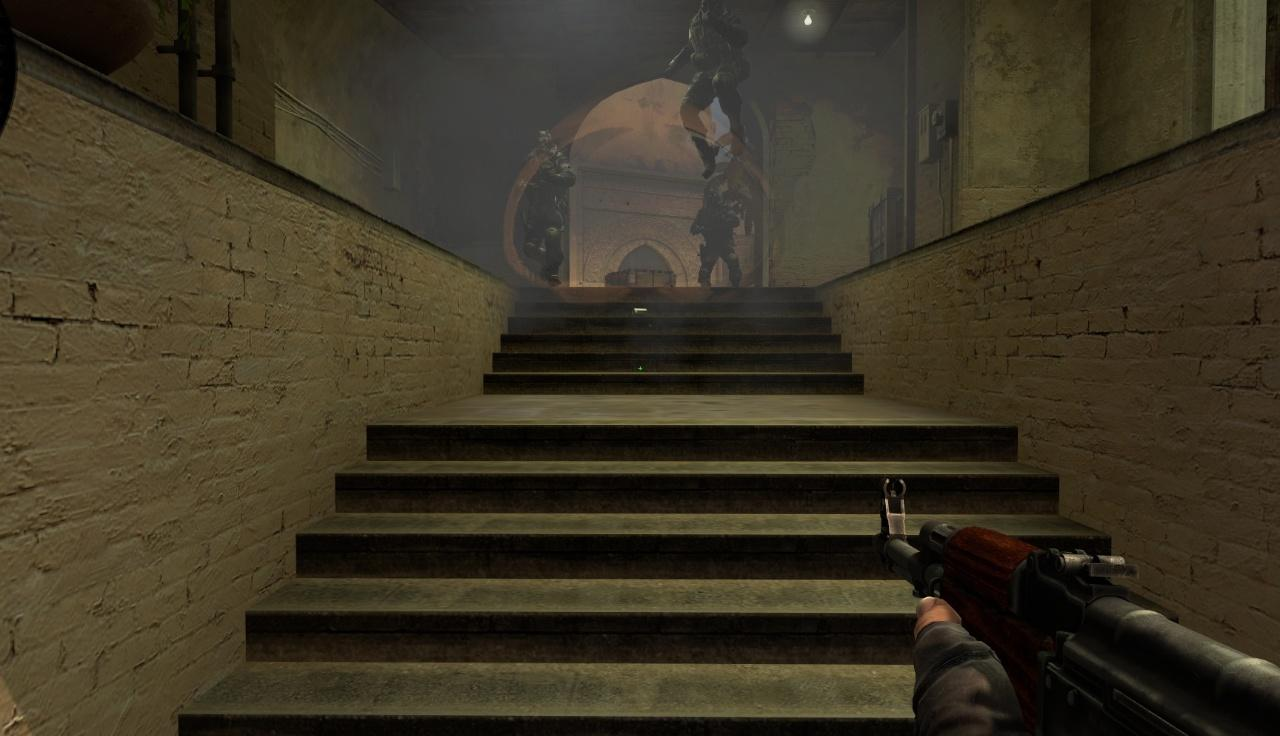ct: (667, 0, 749, 177), (513, 131, 576, 287), (691, 189, 742, 287)
cthead: (700, 0, 724, 21), (535, 131, 551, 157), (705, 189, 721, 208)
rifle: (875, 477, 1280, 736)
